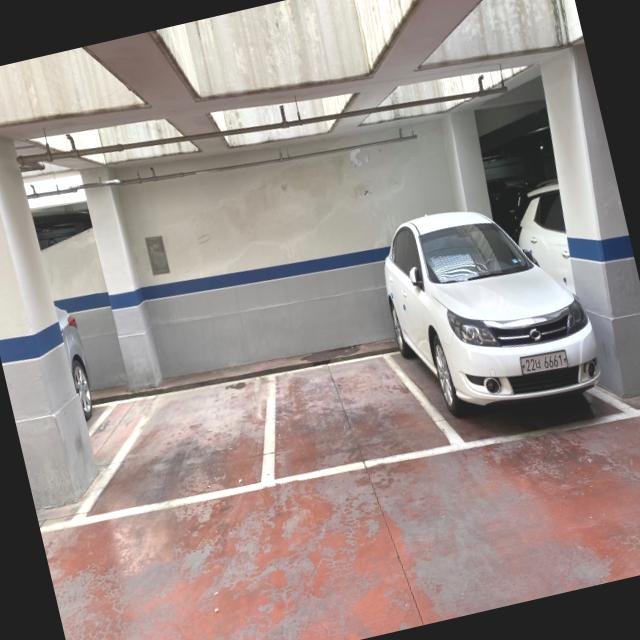car: (382, 183, 613, 442)
free: (70, 367, 277, 526), (263, 349, 468, 490)
